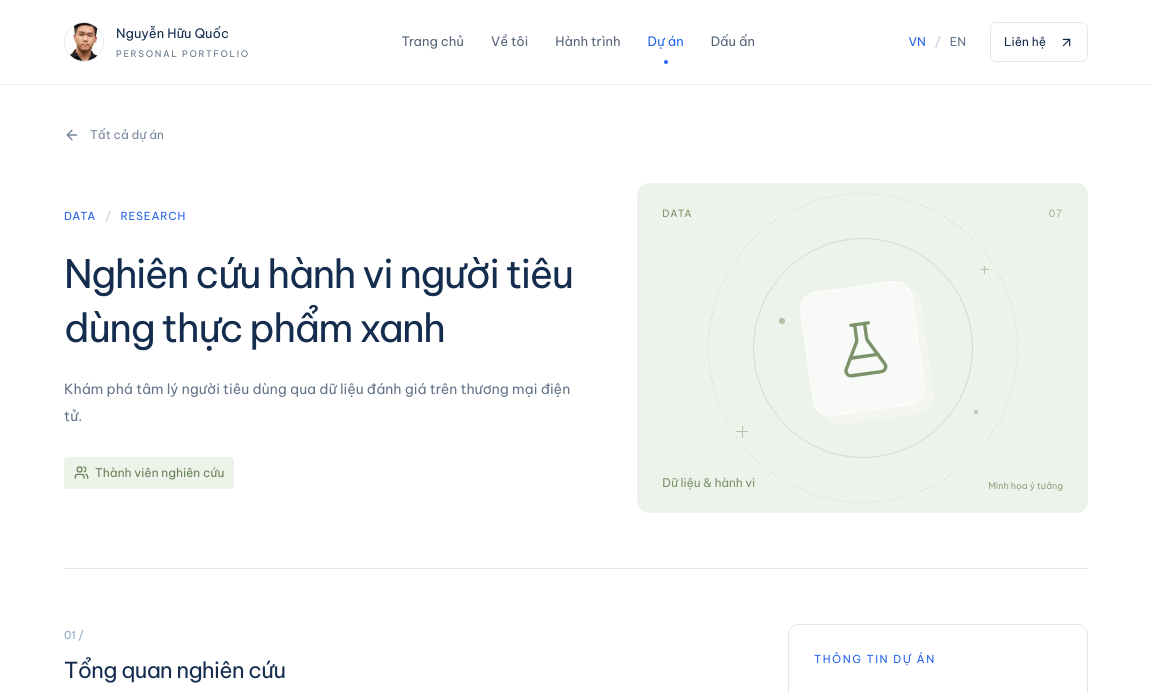
Test case: case study routes and content authenticity › opens green-food-research with the confirmed role and real source link
Expected: the heading "Nghiên cứu hành vi người tiêu dùng thực phẩm xanh" is shown, [64,246,582,356]
Click the button named "English".
click(958, 42)  # box [948,22,968,62]
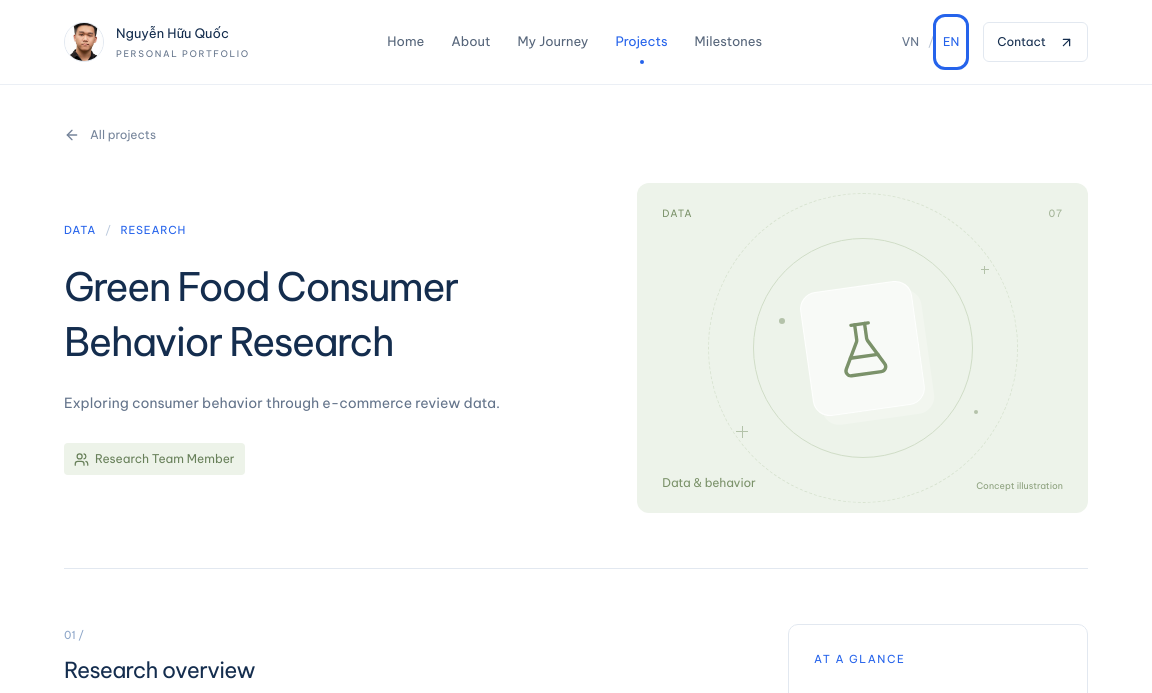
Expected: the heading "Green Food Consumer Behavior Research" is shown, [64,262,458,366]
Expected: the heading "Research overview" is shown, [64,656,255,684]
Expected: the text "Research Team Member" is shown, [64,443,245,475]
